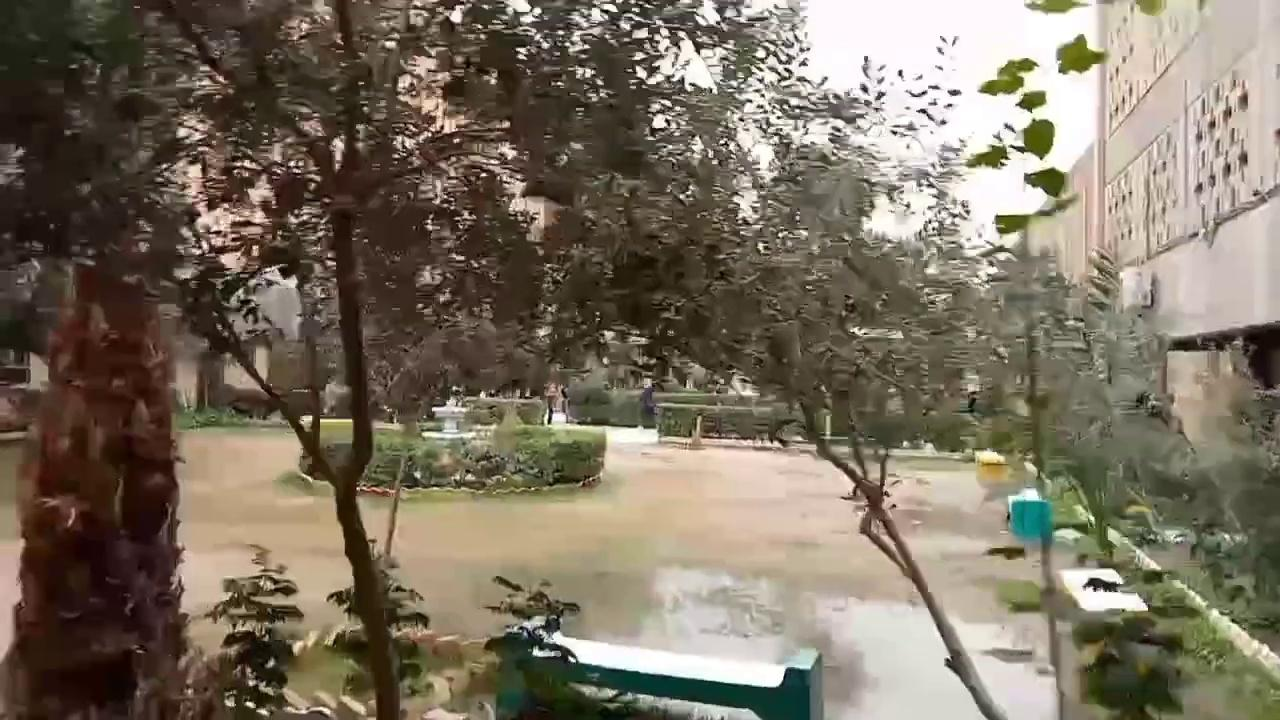person: (638, 378, 660, 428), (543, 381, 559, 425)
tree: (5, 0, 1104, 718), (539, 13, 1090, 719), (147, 2, 528, 717), (712, 139, 1022, 718), (0, 2, 207, 717)
